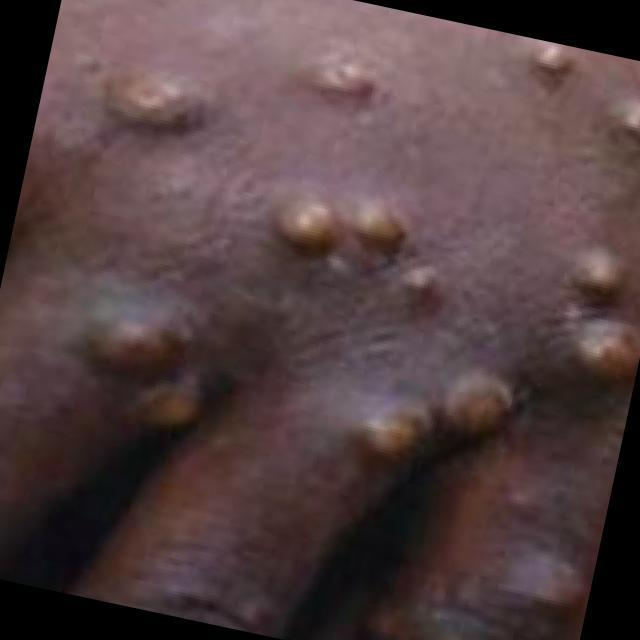Eczema: (76, 13, 640, 454)
